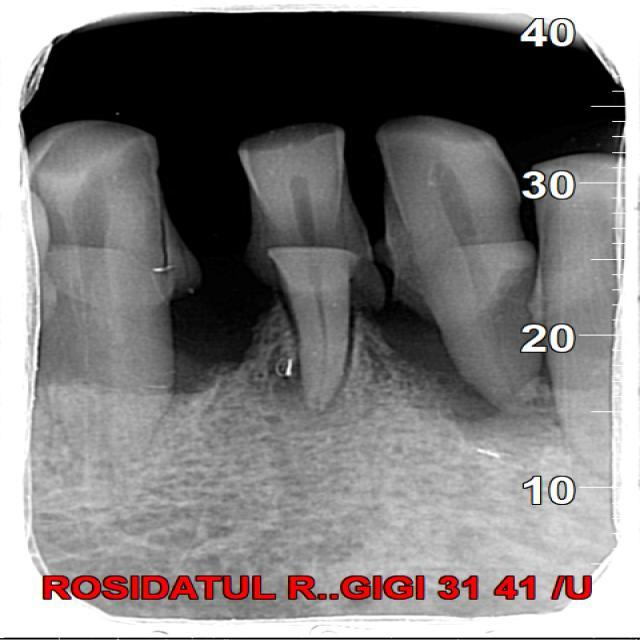individual-tooth-8tto: (382, 119, 551, 418), (246, 119, 356, 404)
